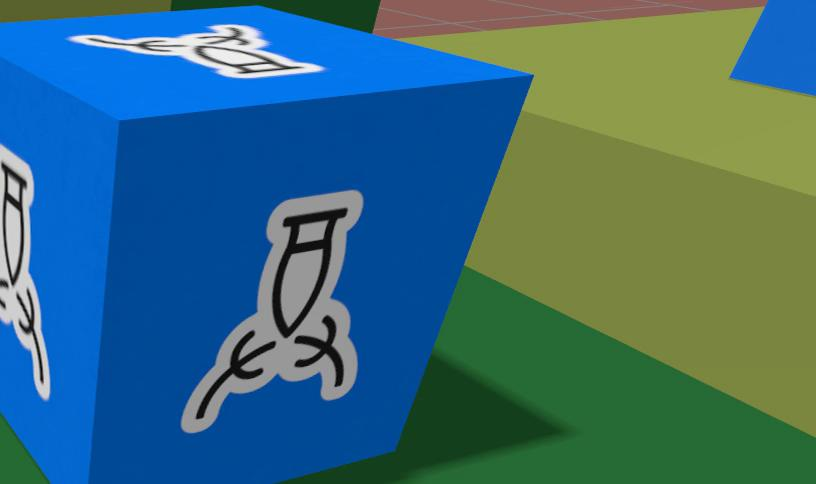KFS_REAL: (0, 7, 531, 484), (181, 191, 362, 433), (70, 24, 325, 78), (0, 144, 49, 399)
